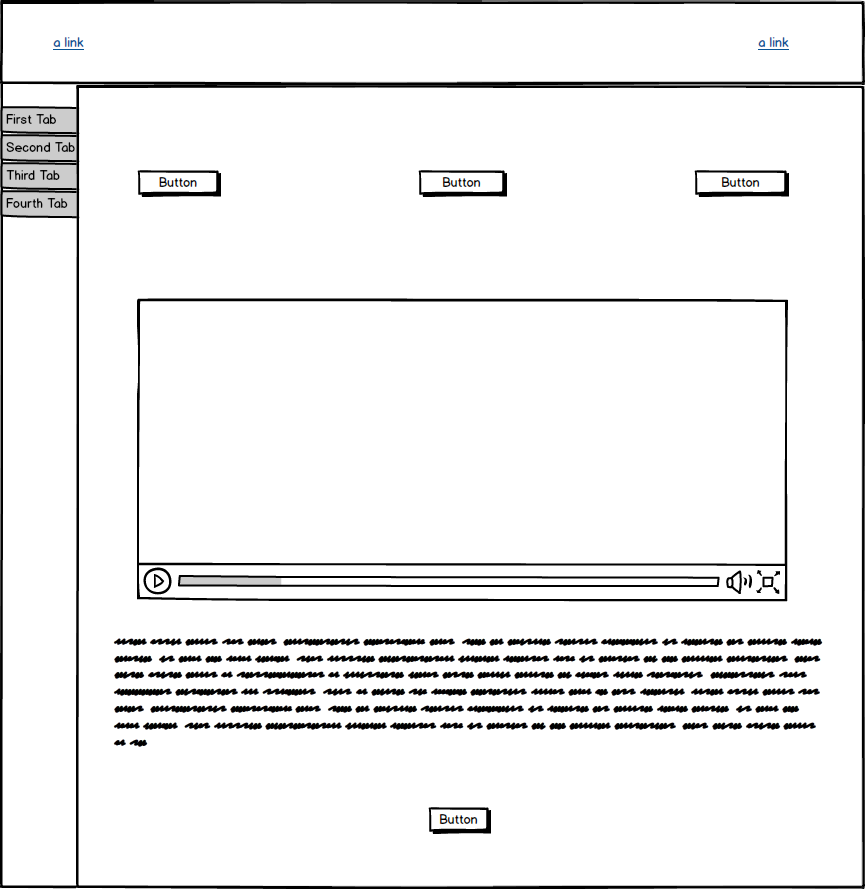button: (134, 163, 226, 205), (687, 166, 793, 201), (414, 165, 514, 200), (424, 800, 499, 838)
navlink: (749, 32, 816, 56), (47, 32, 94, 56)
p: (111, 632, 830, 755)
sidebar: (2, 98, 88, 228)
video: (128, 288, 794, 609)
